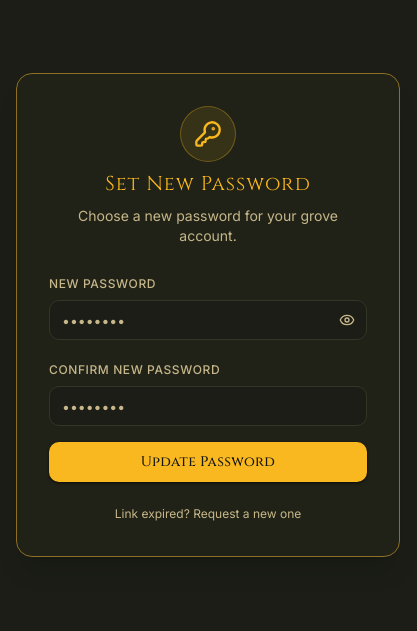
it: update rejection never shows success or raw error payload
The image size is (417, 631).
Check: the button "Update Password" is enabled, box [49,442,367,482]
Type "synthetic-test-password" into the password field labelled "New Password" at (208,320), box [49,300,367,340]
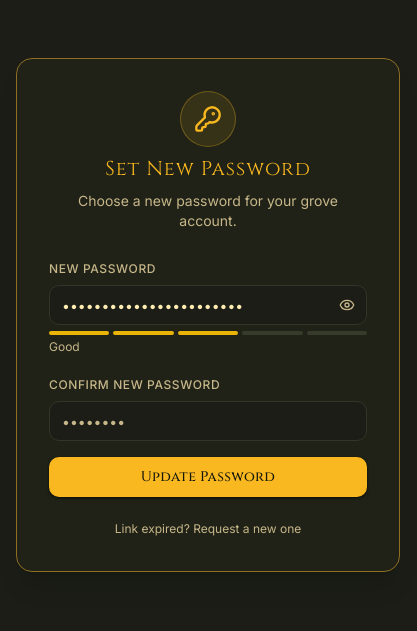
Type "synthetic-test-password" into the password field labelled "Confirm New Password" at (208,421), box [49,401,367,441]
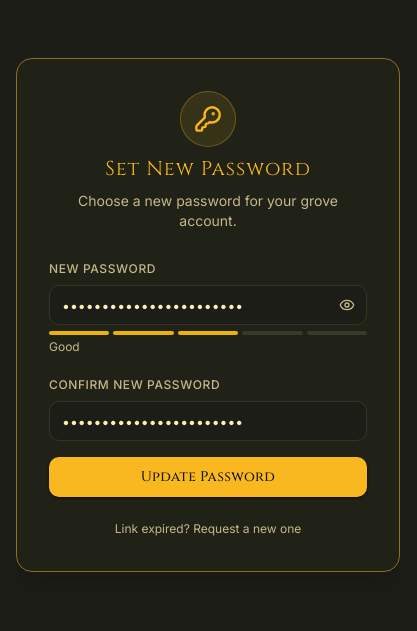
Click the button "Update Password" at (208,477), box [49,457,367,497]
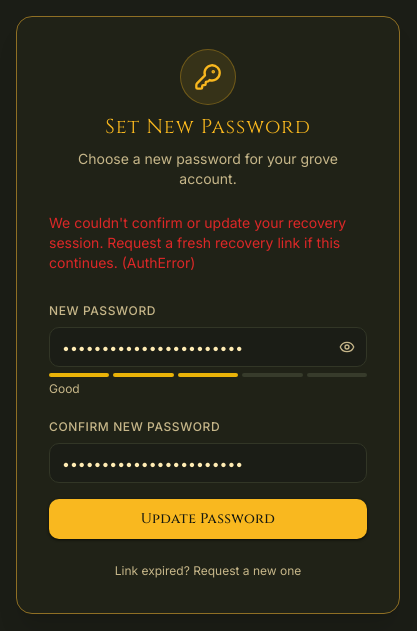
Check: the 1st message shows "AuthError", box [127,254,190,271]
